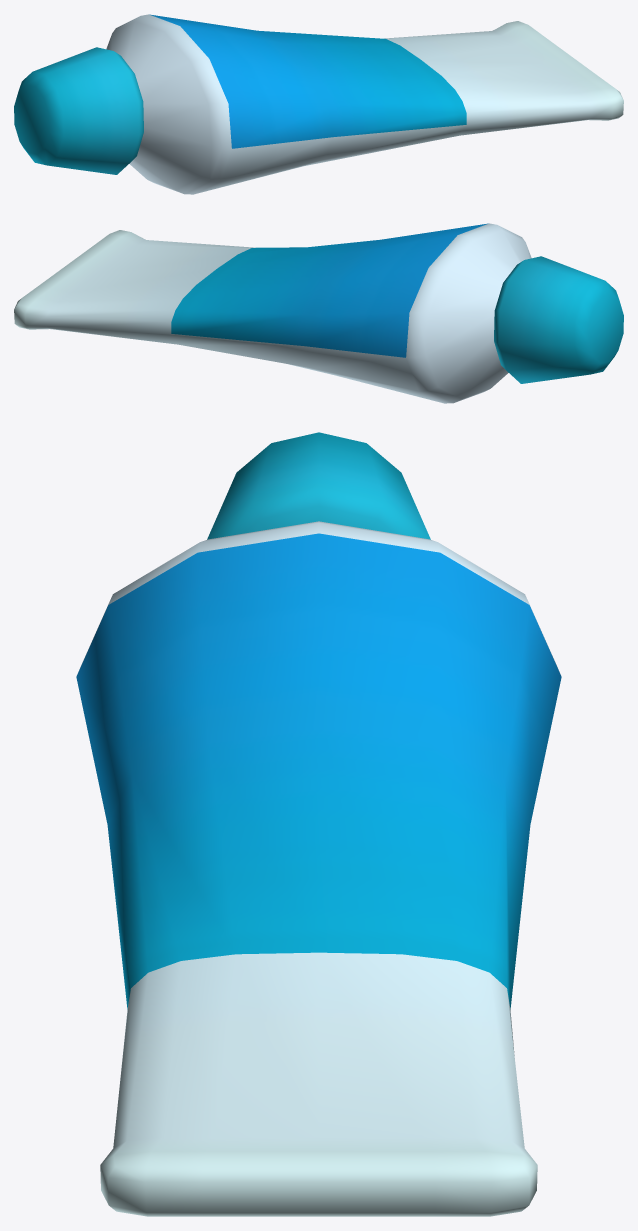
The model's file is Toothpaste_01.glb.
The picture shows the model from 3 angles, top to bottom: view 1: azimuth 30°, elevation 25°; view 2: azimuth 150°, elevation 25°; view 3: azimuth 270°, elevation 25°; orthographic projection. The views are drawn at different scales.
Parts seen in each view (by area): view 1: Toothpaste_01; view 2: Toothpaste_01; view 3: Toothpaste_01.
Boxes of the visible parts, box(x1,y1,x2,y2) form: Toothpaste_01: box(14, 14, 623, 194); Toothpaste_01: box(14, 223, 623, 403); Toothpaste_01: box(76, 432, 561, 1216).
Bounding box in the file's own units: 0.2592 × 0.0692 × 0.0992.
Materials: 1 (1 with a texture image).
